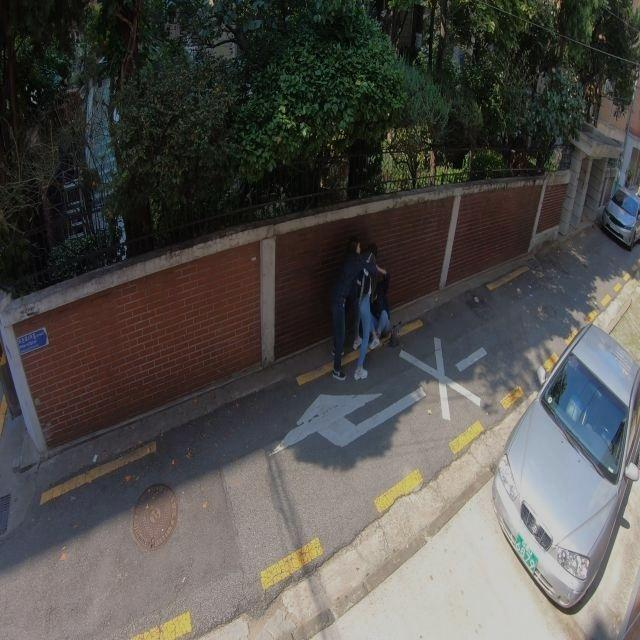fight: (327, 242, 399, 382)
